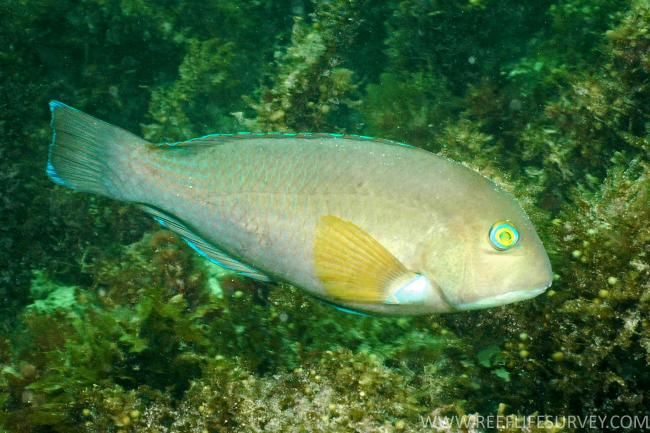fish: (45, 100, 553, 314)
